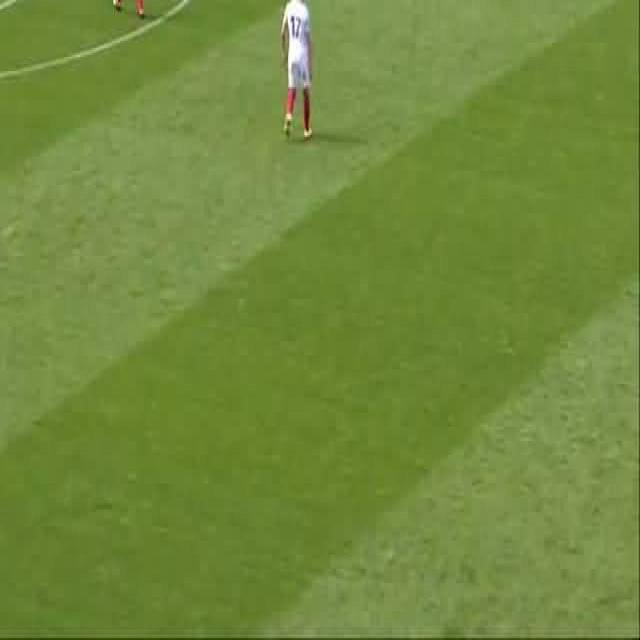player-white: (280, 0, 313, 140), (111, 0, 147, 16)
